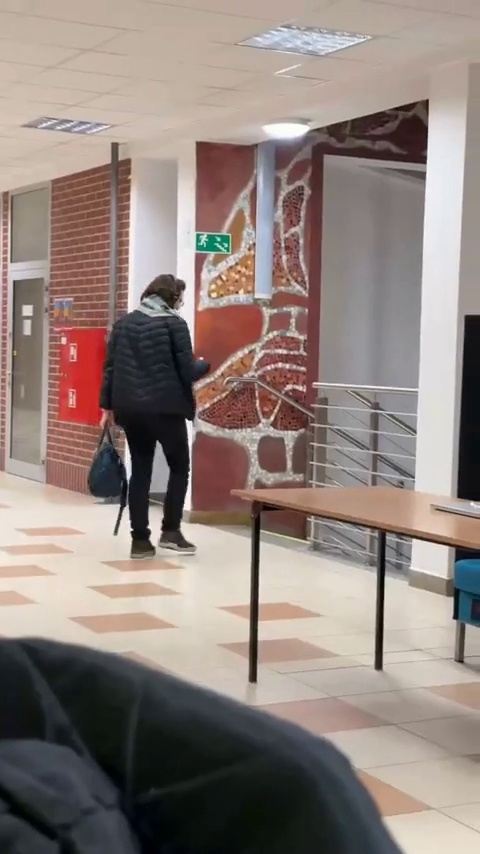no vest: (93, 272, 216, 553)
